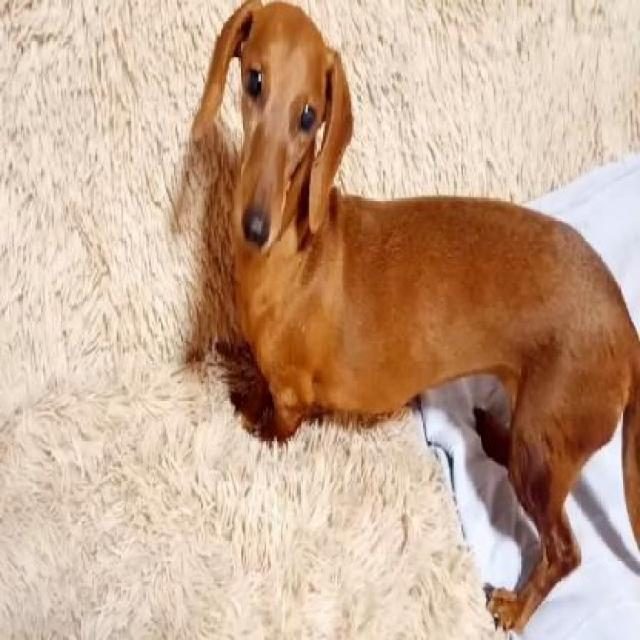Dog: (192, 0, 638, 638)
